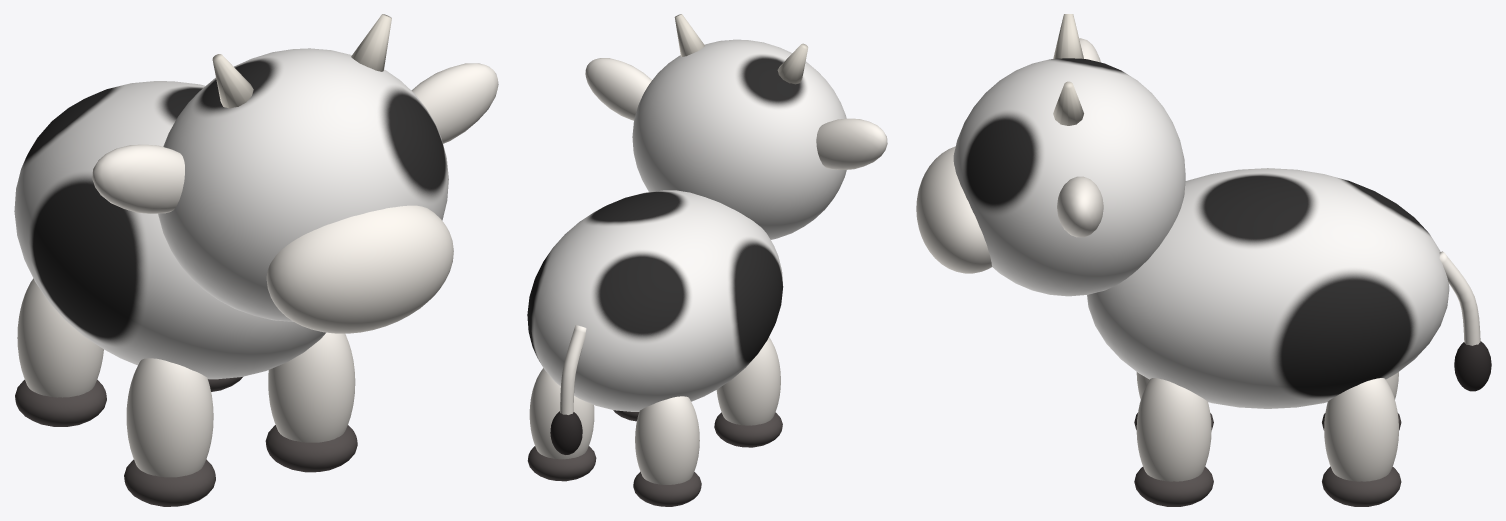
Rendered from cow_no_face.glb.
3 renders of one model, left to right at view 1: azimuth 30°, elevation 25°; view 2: azimuth 150°, elevation 25°; view 3: azimuth 270°, elevation 25°, orthographic. The views are drawn at different scales.
Visible parts, largest first — view 1: CowNoFace_Coat, CowNoFace_Muzzle, CowNoFace_Leg_FL, CowNoFace_Leg_FR, CowNoFace_Leg_BL, CowNoFace_Ear_L, CowNoFace_Ear_R, CowNoFace_Hoof_FR, CowNoFace_Hoof_BL, CowNoFace_Hoof_FL, CowNoFace_Horn_L, CowNoFace_Horn_R; view 2: CowNoFace_Coat, CowNoFace_Leg_BL, CowNoFace_Leg_FL, CowNoFace_Ear_L, CowNoFace_Leg_BR, CowNoFace_Ear_R, CowNoFace_Hoof_FL, CowNoFace_Hoof_BR, CowNoFace_Hoof_BL, CowNoFace_Tail, CowNoFace_TailTuft, CowNoFace_Horn_L (+1 smaller); view 3: CowNoFace_Coat, CowNoFace_Leg_FR, CowNoFace_Leg_BR, CowNoFace_Muzzle, CowNoFace_Ear_R, CowNoFace_Hoof_FR, CowNoFace_Hoof_BR, CowNoFace_Tail, CowNoFace_TailTuft, CowNoFace_Horn_R, CowNoFace_Horn_L.
Boxes of the visible parts, <box> form: CowNoFace_Coat: <box>14,48,448,379</box>; CowNoFace_Muzzle: <box>266,205,453,333</box>; CowNoFace_Leg_FL: <box>126,358,213,477</box>; CowNoFace_Leg_FR: <box>268,332,355,442</box>; CowNoFace_Leg_BL: <box>17,278,103,397</box>; CowNoFace_Ear_L: <box>92,144,184,213</box>; CowNoFace_Ear_R: <box>411,63,498,143</box>; CowNoFace_Hoof_FR: <box>265,425,357,472</box>; CowNoFace_Hoof_BL: <box>15,379,106,426</box>; CowNoFace_Hoof_FL: <box>124,459,215,506</box>; CowNoFace_Horn_L: <box>212,54,253,108</box>; CowNoFace_Horn_R: <box>351,14,391,71</box>; CowNoFace_Coat: <box>527,39,846,411</box>; CowNoFace_Leg_BL: <box>635,396,699,484</box>; CowNoFace_Leg_FL: <box>716,337,780,425</box>; CowNoFace_Ear_L: <box>816,118,887,169</box>; CowNoFace_Leg_BR: <box>529,368,594,459</box>; CowNoFace_Ear_R: <box>585,58,651,120</box>; CowNoFace_Hoof_FL: <box>714,412,782,447</box>; CowNoFace_Hoof_BR: <box>527,446,596,481</box>; CowNoFace_Hoof_BL: <box>633,471,701,506</box>; CowNoFace_Tail: <box>560,325,586,414</box>; CowNoFace_TailTuft: <box>550,411,582,454</box>; CowNoFace_Horn_L: <box>777,43,808,84</box>; CowNoFace_Coat: <box>953,58,1449,408</box>; CowNoFace_Leg_FR: <box>1136,378,1211,481</box>; CowNoFace_Leg_BR: <box>1324,378,1398,481</box>; CowNoFace_Muzzle: <box>916,146,992,273</box>; CowNoFace_Ear_R: <box>1057,176,1103,237</box>; CowNoFace_Hoof_FR: <box>1134,466,1213,506</box>; CowNoFace_Hoof_BR: <box>1322,466,1401,506</box>; CowNoFace_Tail: <box>1439,251,1480,345</box>; CowNoFace_TailTuft: <box>1454,341,1491,391</box>; CowNoFace_Horn_R: <box>1053,81,1083,125</box>; CowNoFace_Horn_L: <box>1053,14,1083,58</box>.
Bounding box in the file's own units: 0.3405 × 0.3988 × 0.491.
Materials: 5 (1 with a texture image).
